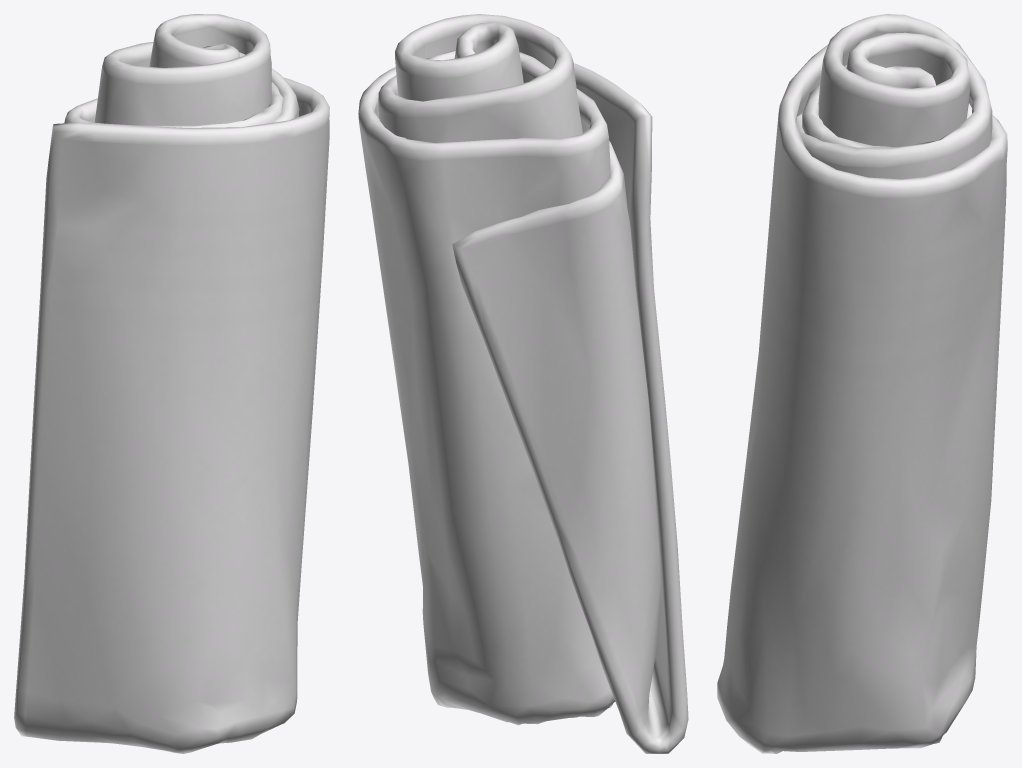
The model's file is Towel.gltf.
The picture shows the model from 3 angles, left to right: view 1: azimuth 30°, elevation 25°; view 2: azimuth 150°, elevation 25°; view 3: azimuth 270°, elevation 25°; orthographic projection. The views are drawn at different scales.
Parts seen in each view (by area): view 1: [BuildingBlock] Towel; view 2: [BuildingBlock] Towel; view 3: [BuildingBlock] Towel.
Boxes of the visible parts, x1=… form: [BuildingBlock] Towel: x1=14, y1=14, x2=329, y2=753; [BuildingBlock] Towel: x1=358, y1=14, x2=688, y2=753; [BuildingBlock] Towel: x1=717, y1=14, x2=1007, y2=753.
Size of the model in its own units: 0.0847 by 0.1753 by 0.0655.
1 material, 1 textured.
